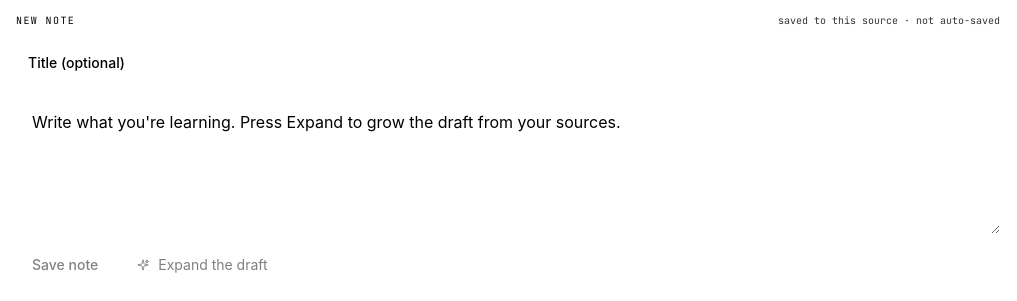
Save and Expand are disabled until the user types a body
The image size is (1017, 301).
expect the button "Save note" is disabled: met, box [16,246,114,284]
expect the button "Expand the draft" is disabled: met, box [122,246,282,284]
Step 1. Replace the text in the text box named "note body" with "a" → (508, 164), box [16,94,1000,234]
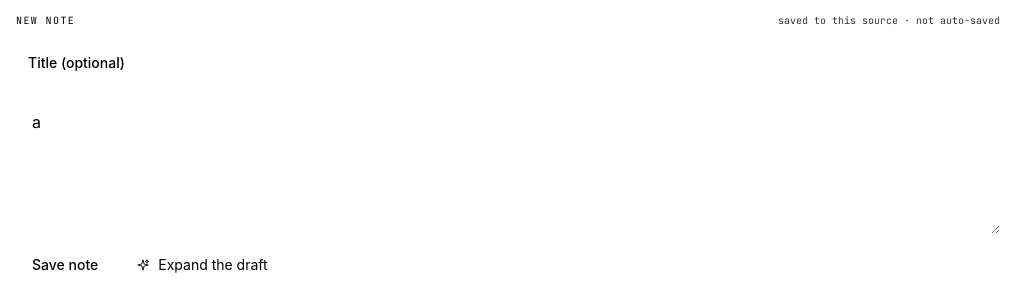
expect the button "Save note" is enabled: met, box [16,246,114,284]
expect the button "Expand the draft" is enabled: met, box [122,246,282,284]
